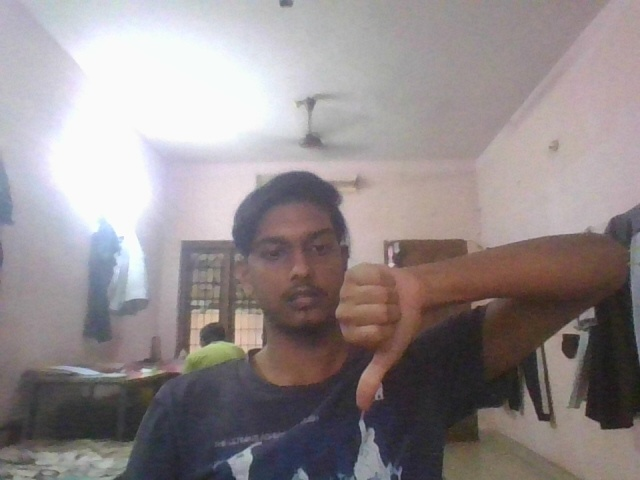thumbsdown: (330, 252, 445, 414)
